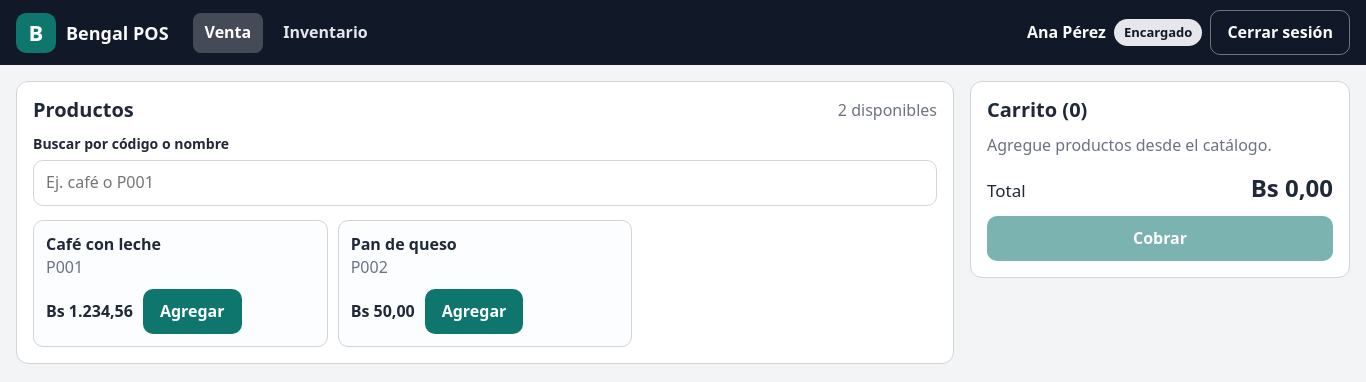
Test case: pantalla de venta › busca productos sin acentos, arma el carrito y calcula el total entero
Type "cafe" into the search field labelled "Buscar por código o nombre" at (485, 183), box [33,160,937,206]
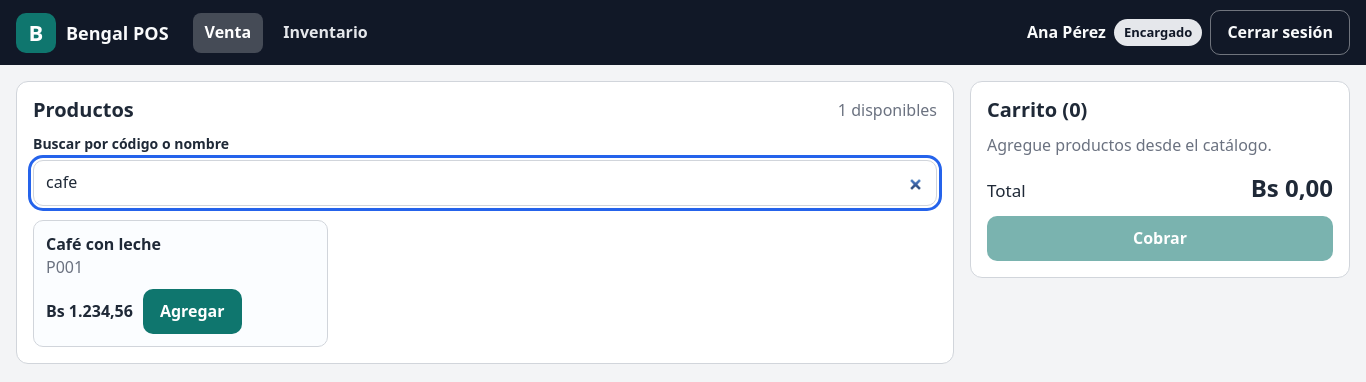
Expected: the text "Café con leche" is shown, [46,233,161,256]
Now the text "Pan de queso" is gone
Replace the text in the search field labelled "Buscar por código o nombre" with "queso" at (485, 183), box [33,160,937,206]
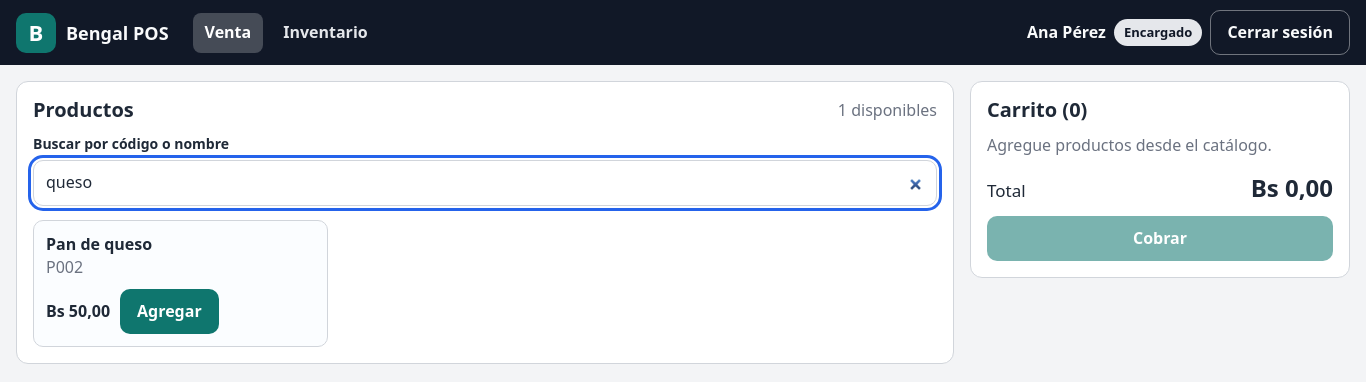
Now the text "Pan de queso" is shown, box [46,233,152,256]
Clear the search field labelled "Buscar por código o nombre" at (485, 183), box [33,160,937,206]
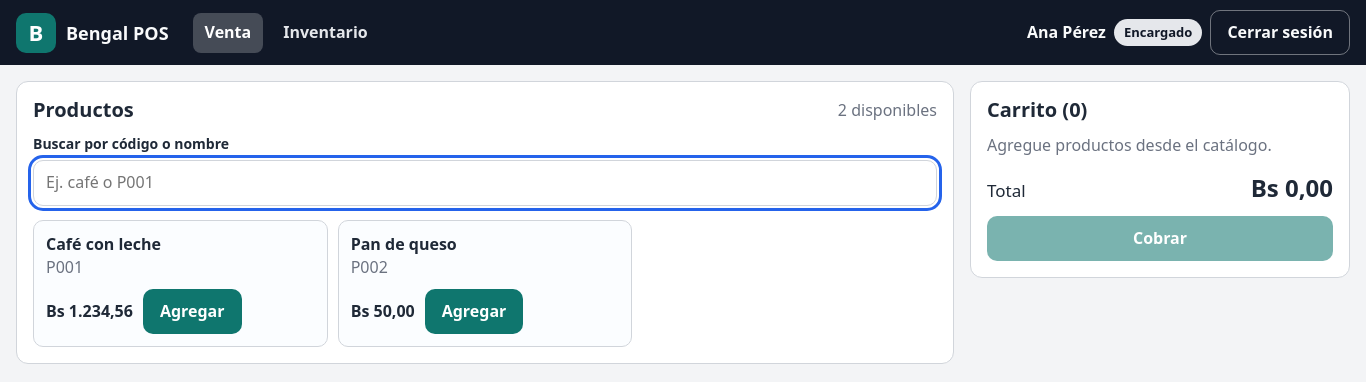
Click the button with aria-label "Agregar Café con leche" at (192, 312), box [143,289,242,334]
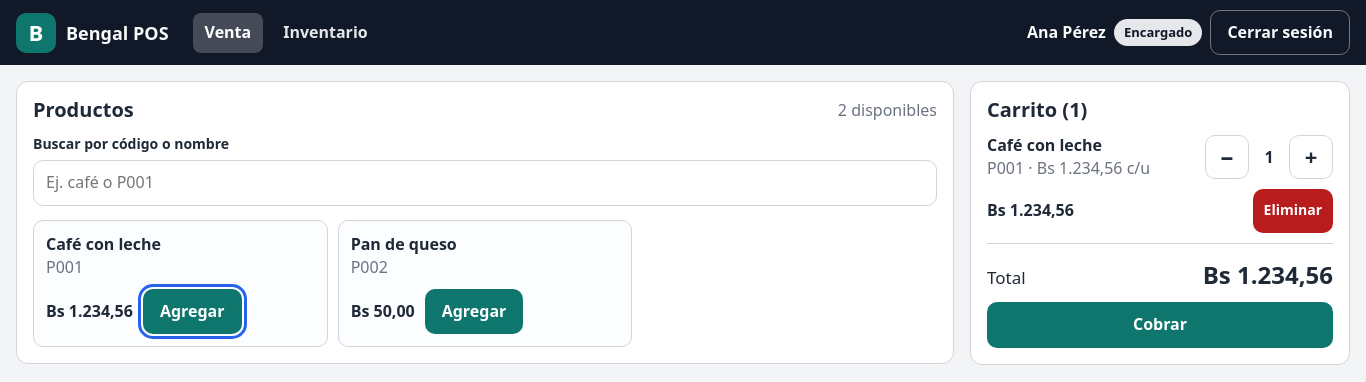
Now the text named "Cantidad de Café con leche" reads "1", box [1264,146,1274,168]
Now the text with class "total-value" reads "Bs 1.234,56", box [1203,258,1333,291]
Click the button named "Aumentar Café con leche" at (1311, 157), box [1289,135,1333,179]
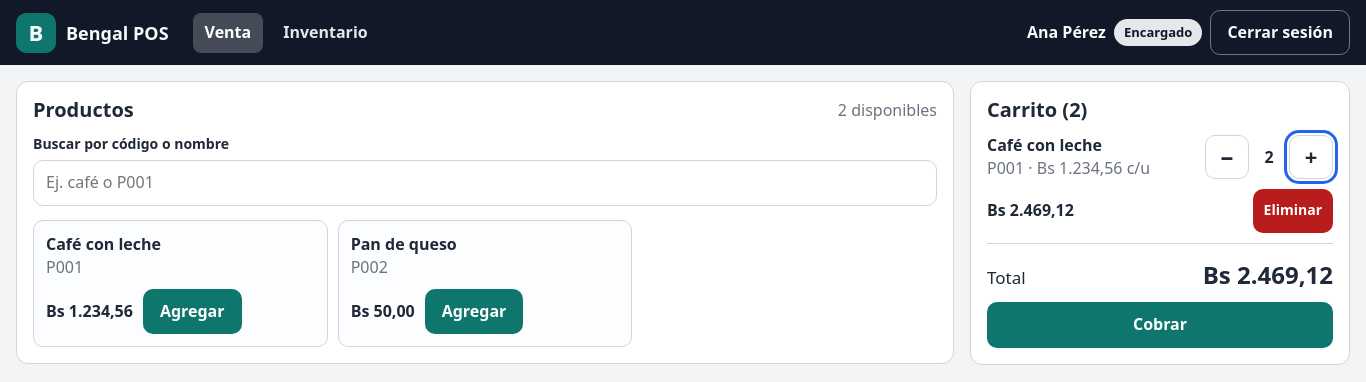
Now the text named "Cantidad de Café con leche" reads "2", box [1264,146,1274,168]
Now the text with class "total-value" reads "Bs 2.469,12", box [1203,258,1333,291]
Click the button "Eliminar" at (1293, 211), box [1253,189,1333,233]
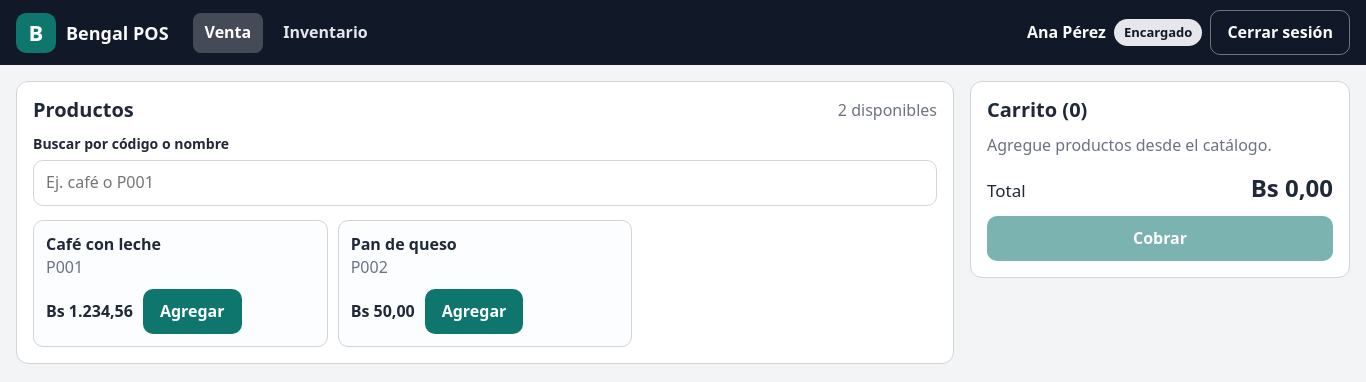
Now the text "Agregue productos desde el catálogo." is shown, box [987,134,1272,156]
